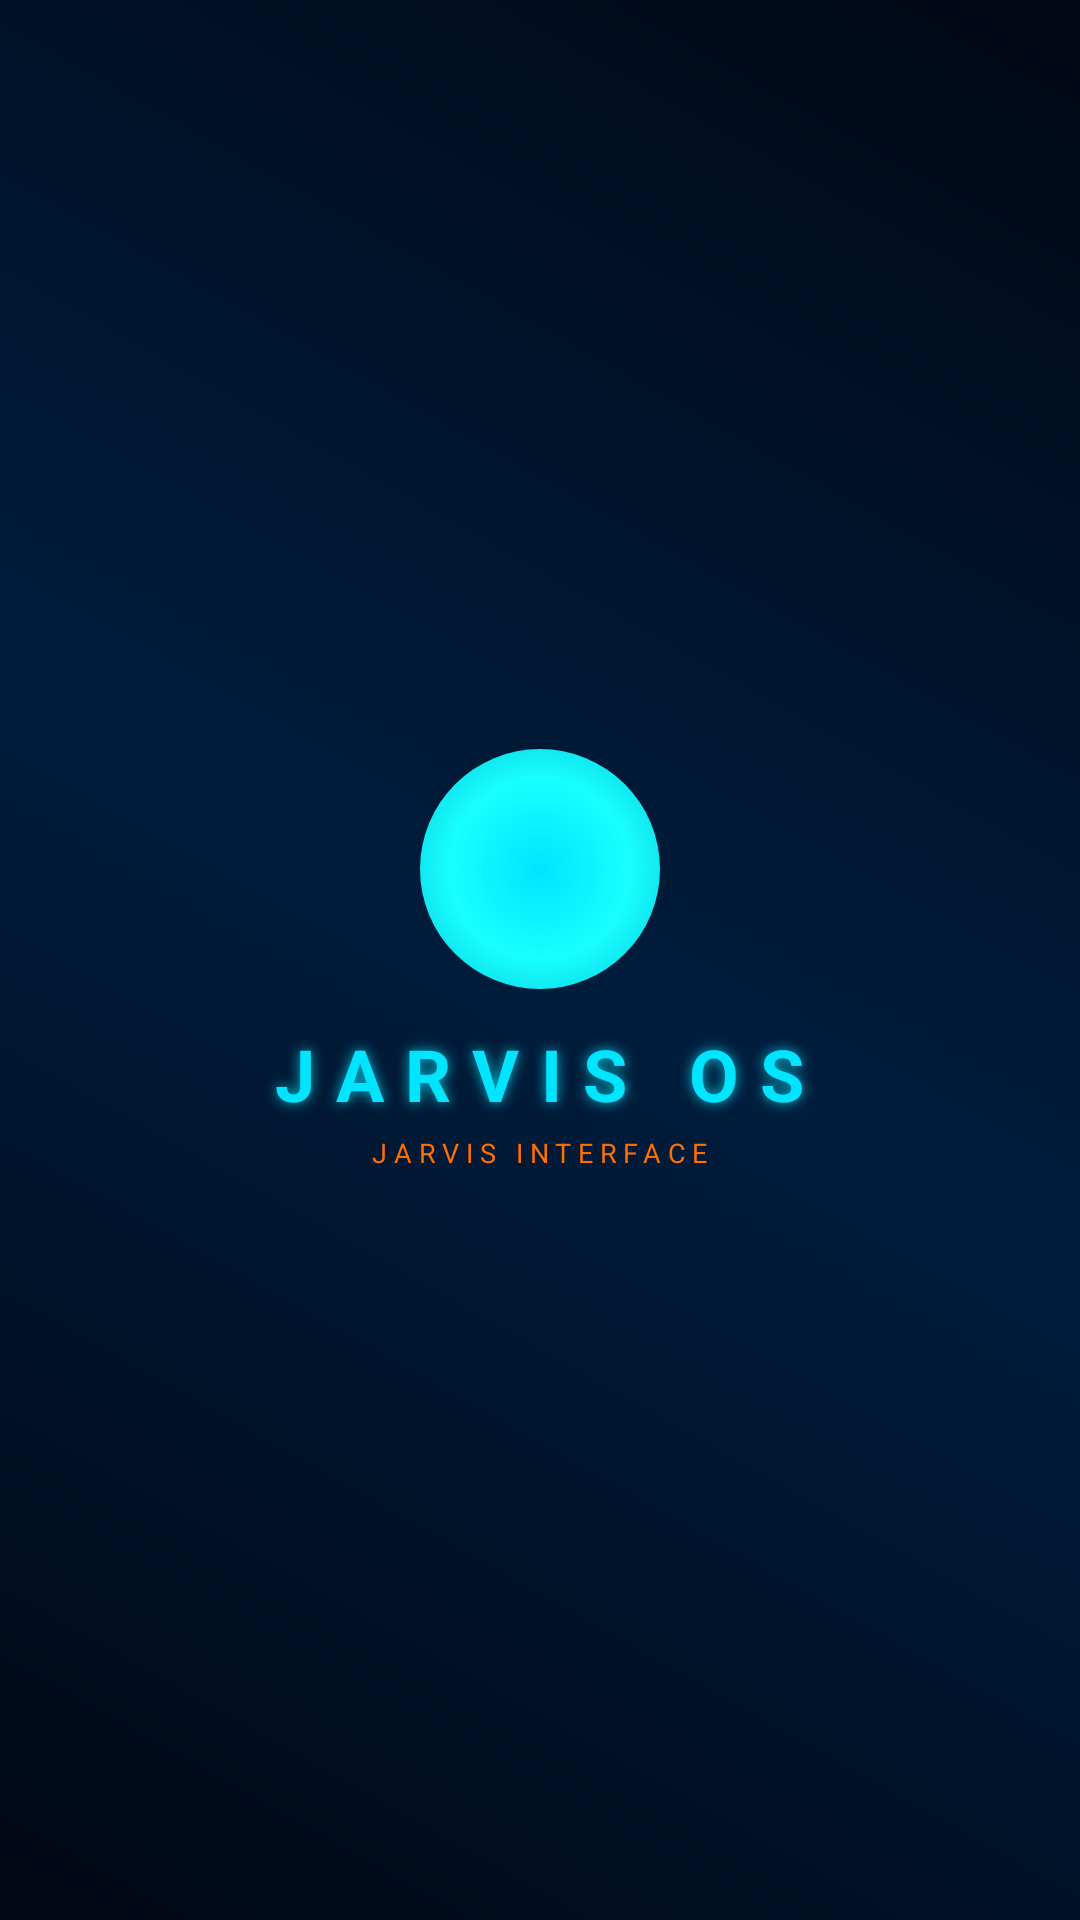

Icons on this 1080px×1920px Android screen, each with the point to tap as (x,y):
core inner glow: (540,869)
